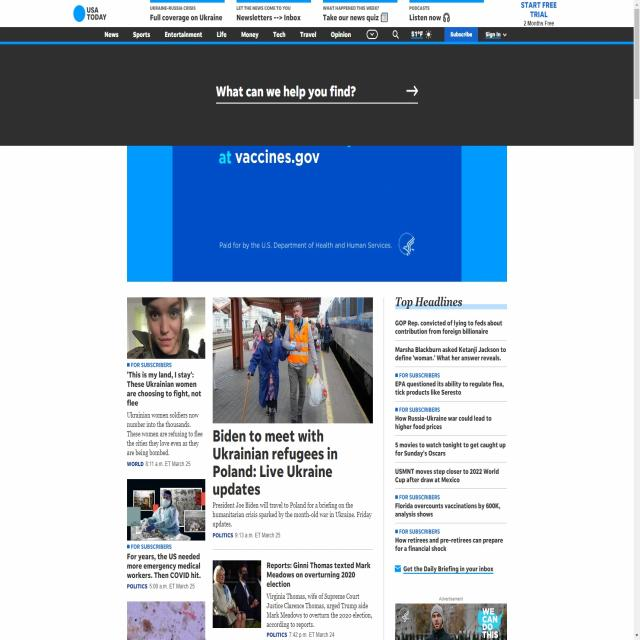menu-bar: (100, 27, 510, 44)
search: (211, 76, 425, 109)
